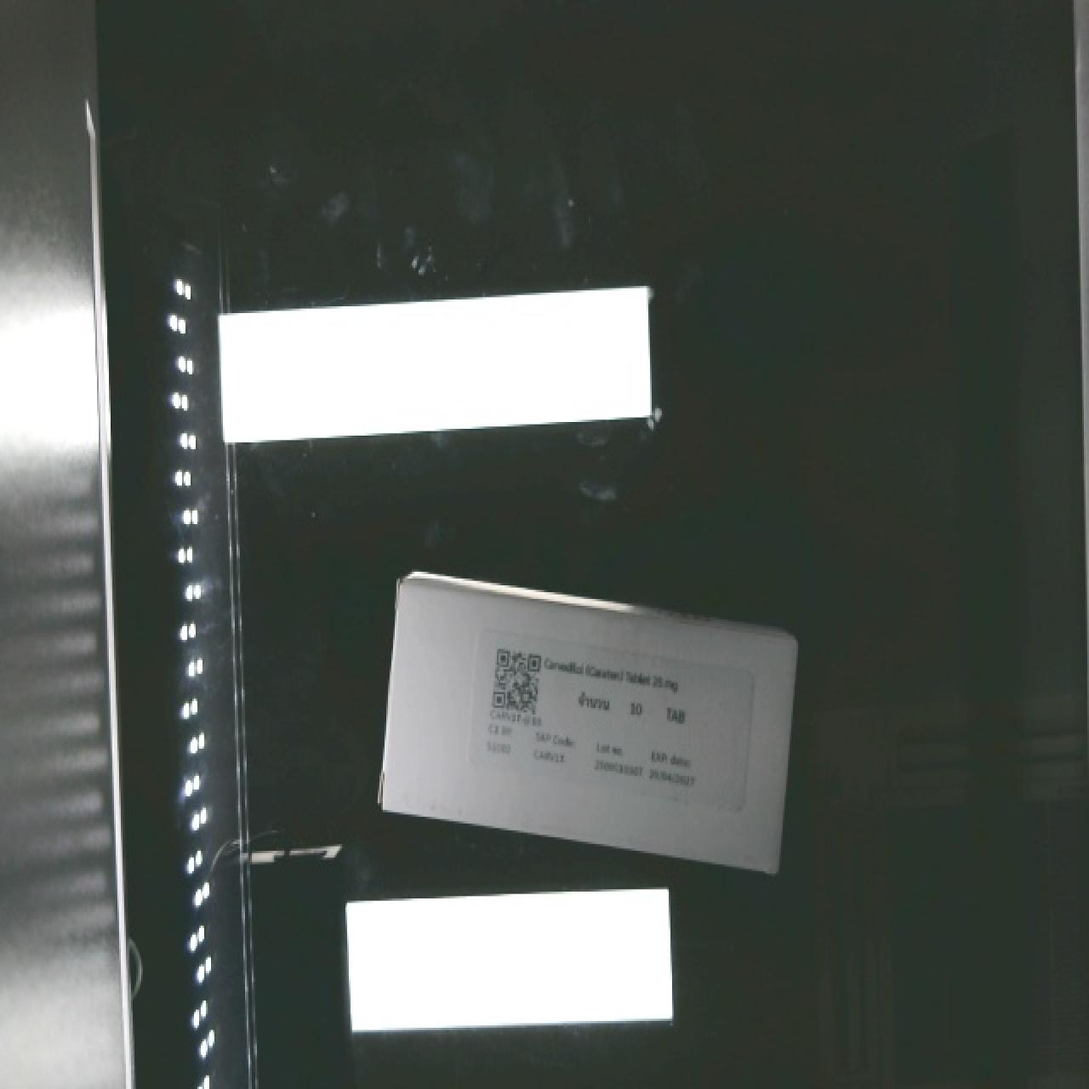qr_code: (479, 641, 552, 728)
